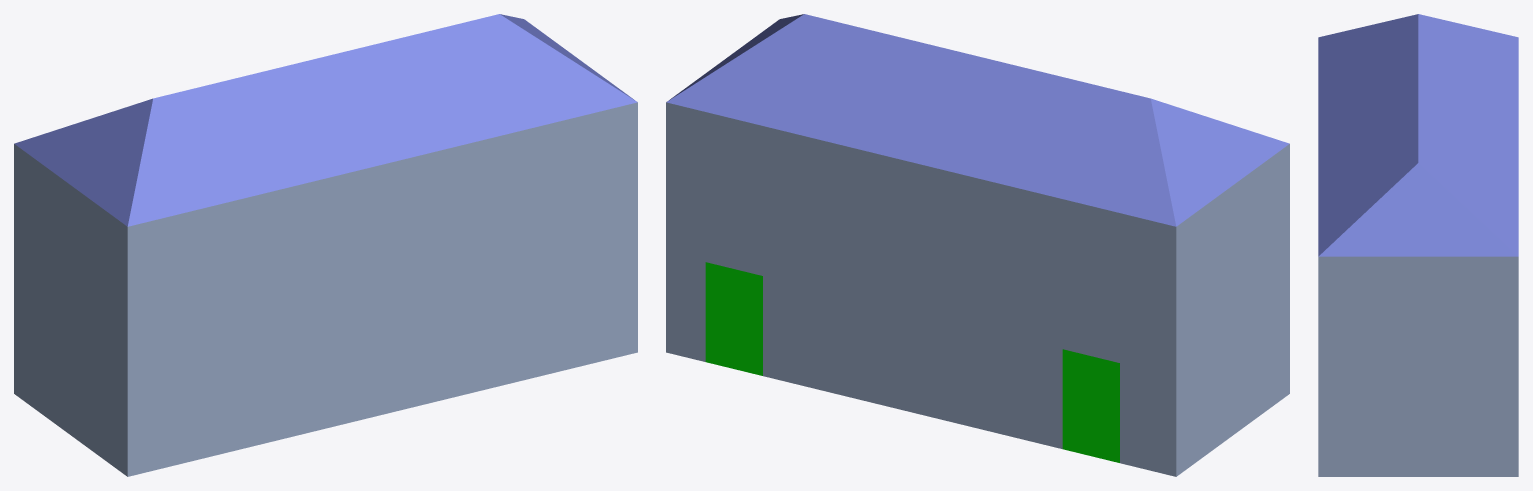
Rendered from Water_Softening_Room.glb.
3 renders of one model, left to right at view 1: azimuth 30°, elevation 25°; view 2: azimuth 150°, elevation 25°; view 3: azimuth 270°, elevation 25°, orthographic. The views are drawn at different scales.
Visible parts, largest first — view 1: Floor1, Roof; view 2: Floor1, Roof; view 3: Roof, Floor1.
Part boxes in pixels (x1,y1,x2,y2): Floor1: [14, 119, 637, 476]; Roof: [14, 14, 637, 243]; Floor1: [666, 119, 1289, 476]; Roof: [666, 14, 1289, 243]; Roof: [1318, 14, 1518, 271]; Floor1: [1318, 271, 1518, 476].
Bounding box in the file's own units: 16.01 × 9.5 × 6.17.
